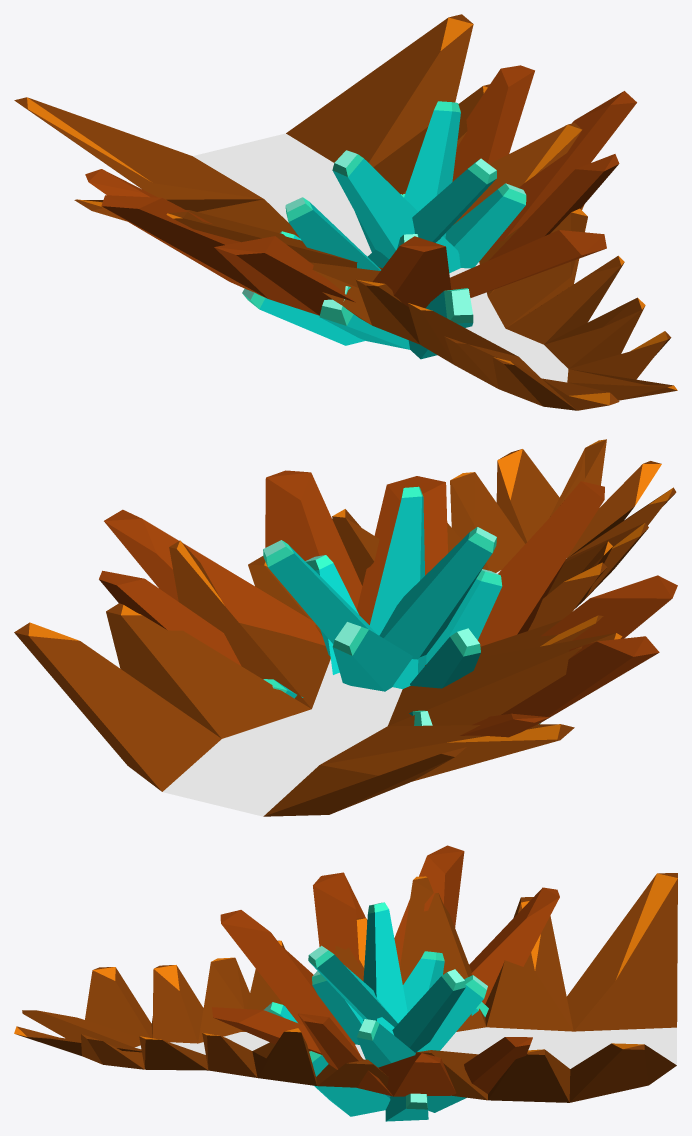
The model's file is fxMesh.glb.
The picture shows the model from 3 angles, top to bottom: view 1: azimuth 30°, elevation 25°; view 2: azimuth 150°, elevation 25°; view 3: azimuth 270°, elevation 25°; orthographic projection. The views are drawn at different scales.
Visible parts, largest first — view 1: fx2, fx1, Cube.022; view 2: fx2, fx1, Cube.022; view 3: fx2, fx1, Cube.022.
Boxes of the visible parts, left/top/right/bottom form: fx2: left=14, top=14, right=677, bottom=410; fx1: left=85, top=65, right=636, bottom=315; Cube.022: left=242, top=101, right=526, bottom=359; fx2: left=14, top=439, right=676, bottom=816; fx1: left=99, top=470, right=677, bottom=737; Cube.022: left=263, top=486, right=540, bottom=725; fx2: left=14, top=873, right=677, bottom=1102; fx1: left=212, top=845, right=559, bottom=1096; Cube.022: left=264, top=902, right=488, bottom=1121.
Size of the model in its own units: 19.77 by 7.12 by 26.3.
Materials: 4 (4 with a texture image).
